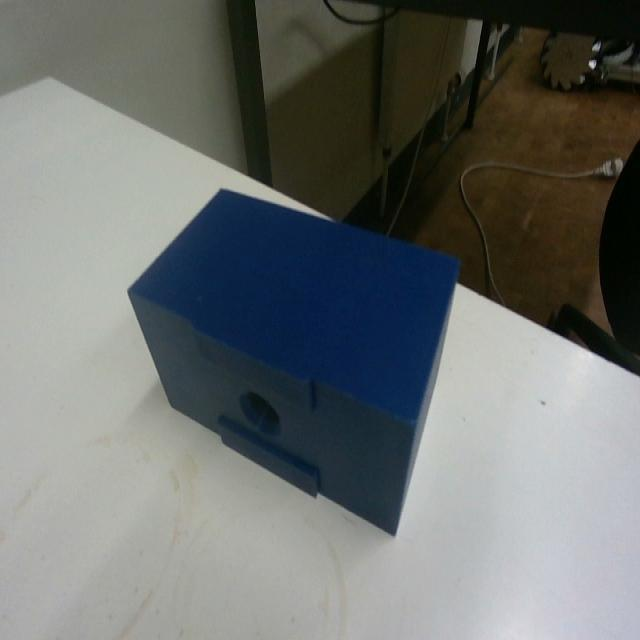Blue Cuboid: (125, 183, 462, 536)
